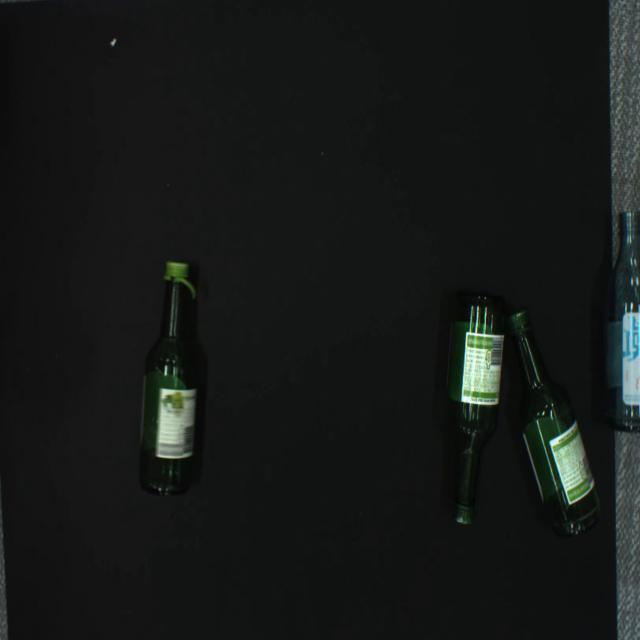soju-bottle: (507, 311, 602, 540), (445, 292, 508, 525), (137, 261, 199, 497), (600, 211, 640, 433)
